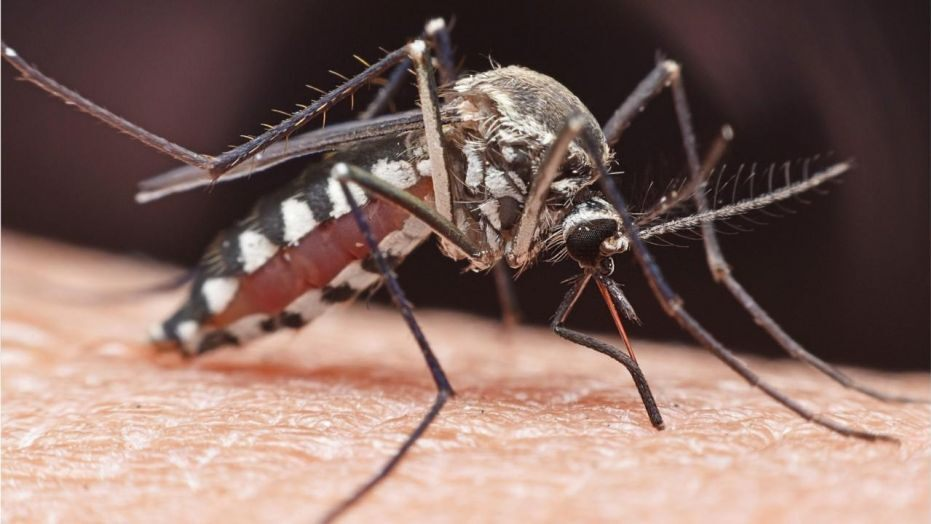dengue_mosquito: (10, 18, 842, 425)
